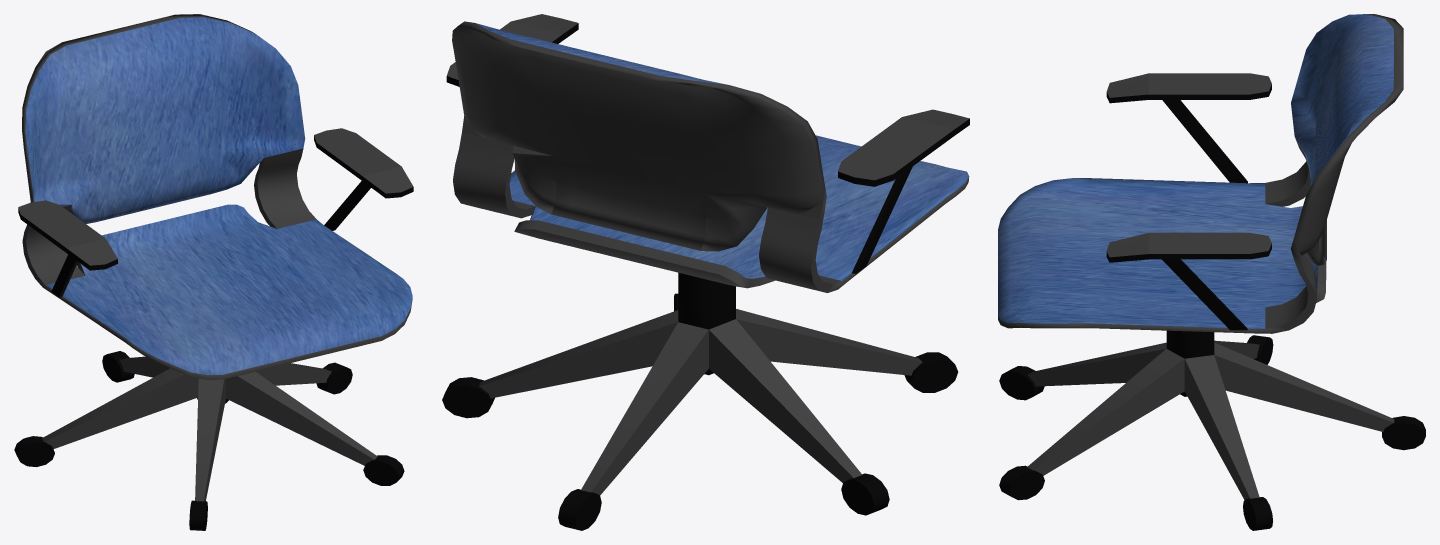
File: sh-contrib-office-chair.glb
3 renders of one model, left to right at view 1: azimuth 30°, elevation 25°; view 2: azimuth 150°, elevation 25°; view 3: azimuth 270°, elevation 25°, orthographic. The views are drawn at different scales.
Visible parts, largest first — view 1: OfficeChair_1, OfficeChair_2, OfficeChair_3; view 2: OfficeChair_2, OfficeChair_1, OfficeChair_3; view 3: OfficeChair_1, OfficeChair_2, OfficeChair_3.
Part boxes in pixels (box(x1,y1,x2,y2)): OfficeChair_1: box(25, 17, 412, 375); OfficeChair_2: box(18, 14, 413, 501); OfficeChair_3: box(14, 136, 413, 530); OfficeChair_2: box(447, 14, 969, 495); OfficeChair_1: box(476, 23, 968, 280); OfficeChair_3: box(442, 23, 969, 530); OfficeChair_1: box(998, 14, 1393, 328); OfficeChair_2: box(998, 14, 1403, 499); OfficeChair_3: box(999, 84, 1425, 530).
Size of the model in its own units: 1 by 1 by 1.
Materials: 3 (1 with a texture image).
